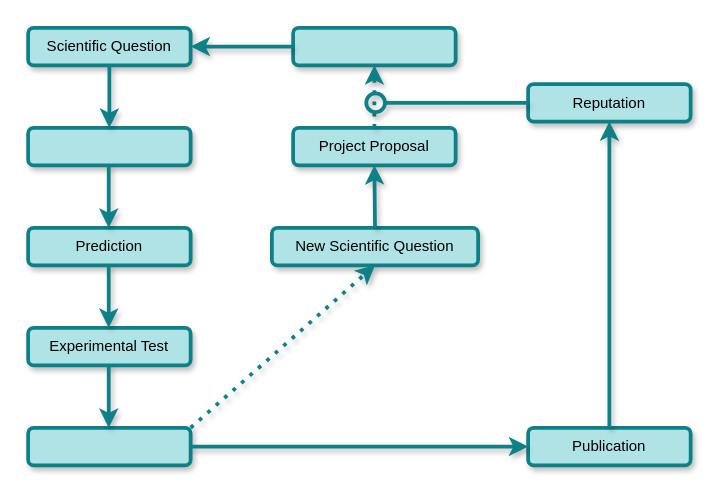
Image size: 721x498. Some labels were removed from this diagram. The centre of each missing label's shape, as x and y in pixels:
"Funding" goes at point 375,47.
"Hypothesis" goes at point 110,147.
"Scientific Finding" goes at point 110,447.
